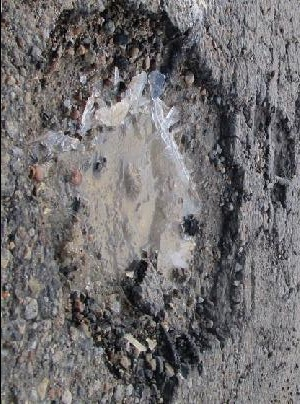pothole: (25, 0, 248, 402), (244, 89, 300, 209)
